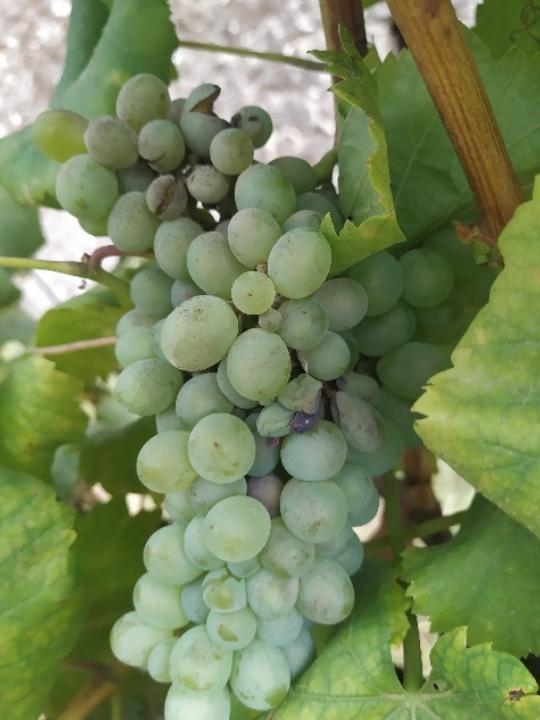grape: (53, 70, 459, 720)
